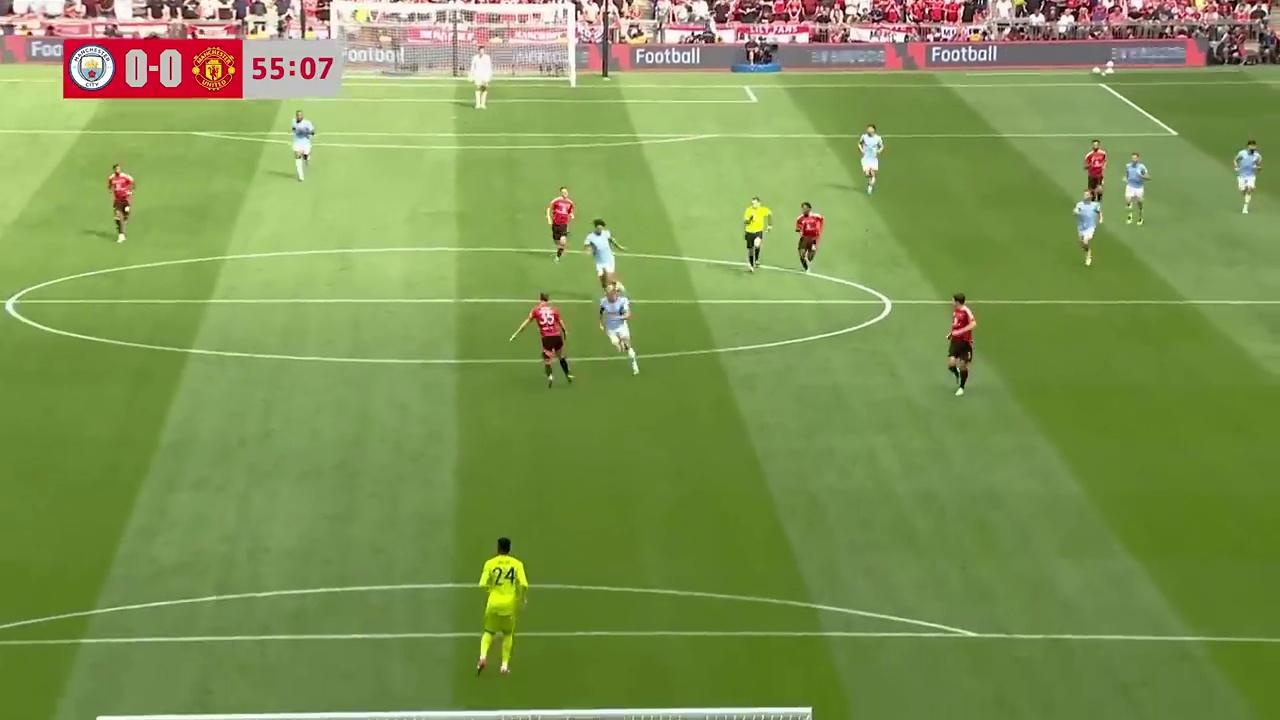player: (475, 536, 528, 677), (512, 292, 575, 387), (596, 283, 641, 376), (946, 293, 977, 395), (583, 219, 623, 295), (545, 186, 575, 263), (1232, 139, 1262, 215), (107, 162, 134, 243), (794, 200, 824, 272), (1073, 189, 1100, 266), (1123, 150, 1150, 225), (857, 123, 885, 195), (290, 110, 315, 181), (1082, 139, 1107, 206), (470, 44, 492, 109)
referee: (742, 196, 772, 272)
